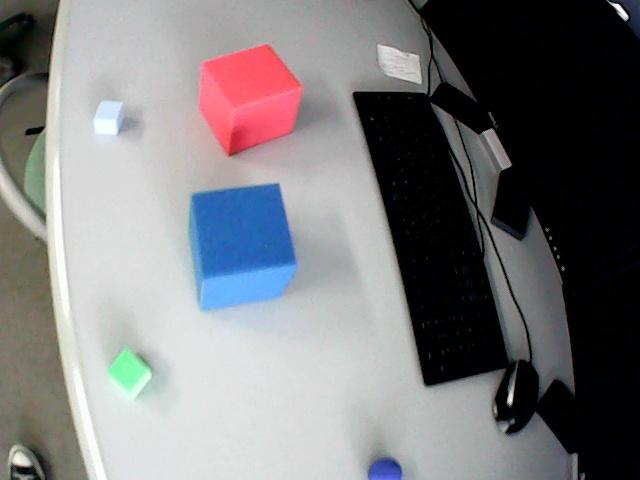blue_block: (190, 184, 296, 309), (93, 100, 123, 134)
red_block: (199, 45, 302, 153)
